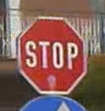stop: (16, 14, 88, 94)
